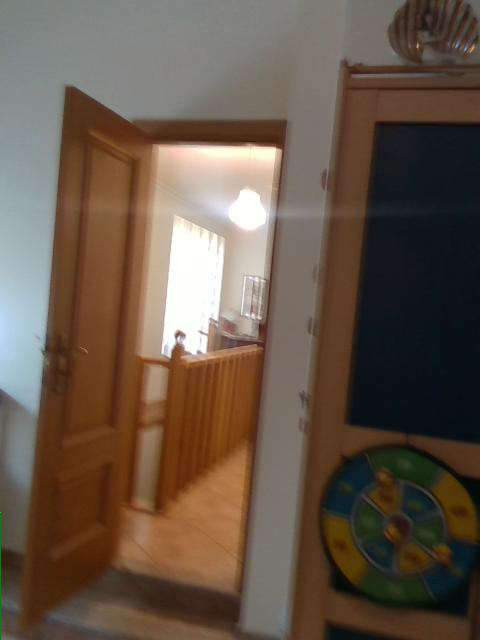open_door: (92, 115, 289, 637)
